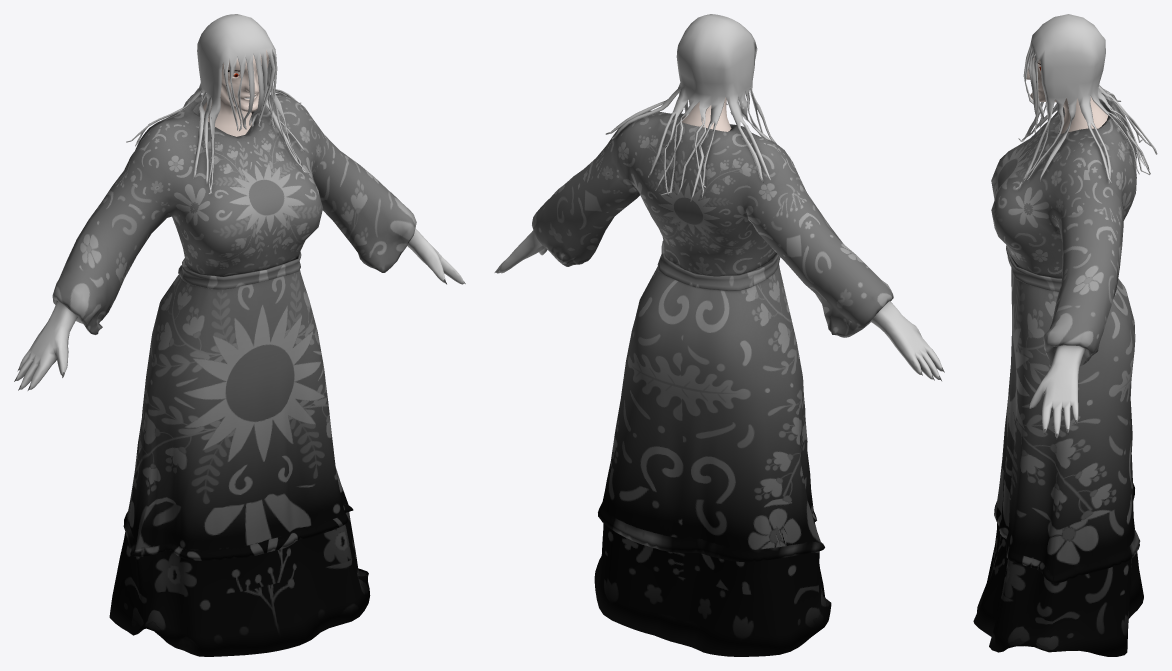
The model's file is llorona.fbx.
3 renders of one model, left to right at view 1: azimuth 30°, elevation 25°; view 2: azimuth 150°, elevation 25°; view 3: azimuth 270°, elevation 25°, orthographic.
Visible parts, largest first — view 1: Verstido, Cabello, Manos, Cabeza; view 2: Verstido, Cabello, Manos, Cabeza; view 3: Verstido, Cabello, Manos, Cabeza.
Boxes of the visible parts, box(x1,y1,x2,y2) form: Verstido: box(52, 93, 416, 656); Cabello: box(126, 14, 309, 196); Manos: box(14, 228, 465, 390); Cabeza: box(203, 49, 268, 136); Verstido: box(532, 110, 893, 656); Cabello: box(605, 14, 790, 201); Manos: box(494, 230, 944, 380); Cabeza: box(681, 97, 731, 131); Verstido: box(973, 95, 1143, 656); Cabello: box(1015, 14, 1157, 190); Manos: box(1029, 345, 1085, 439); Cabeza: box(1026, 57, 1108, 133).
Bounding box in the file's own units: 5.22 × 6.81 × 1.88.
